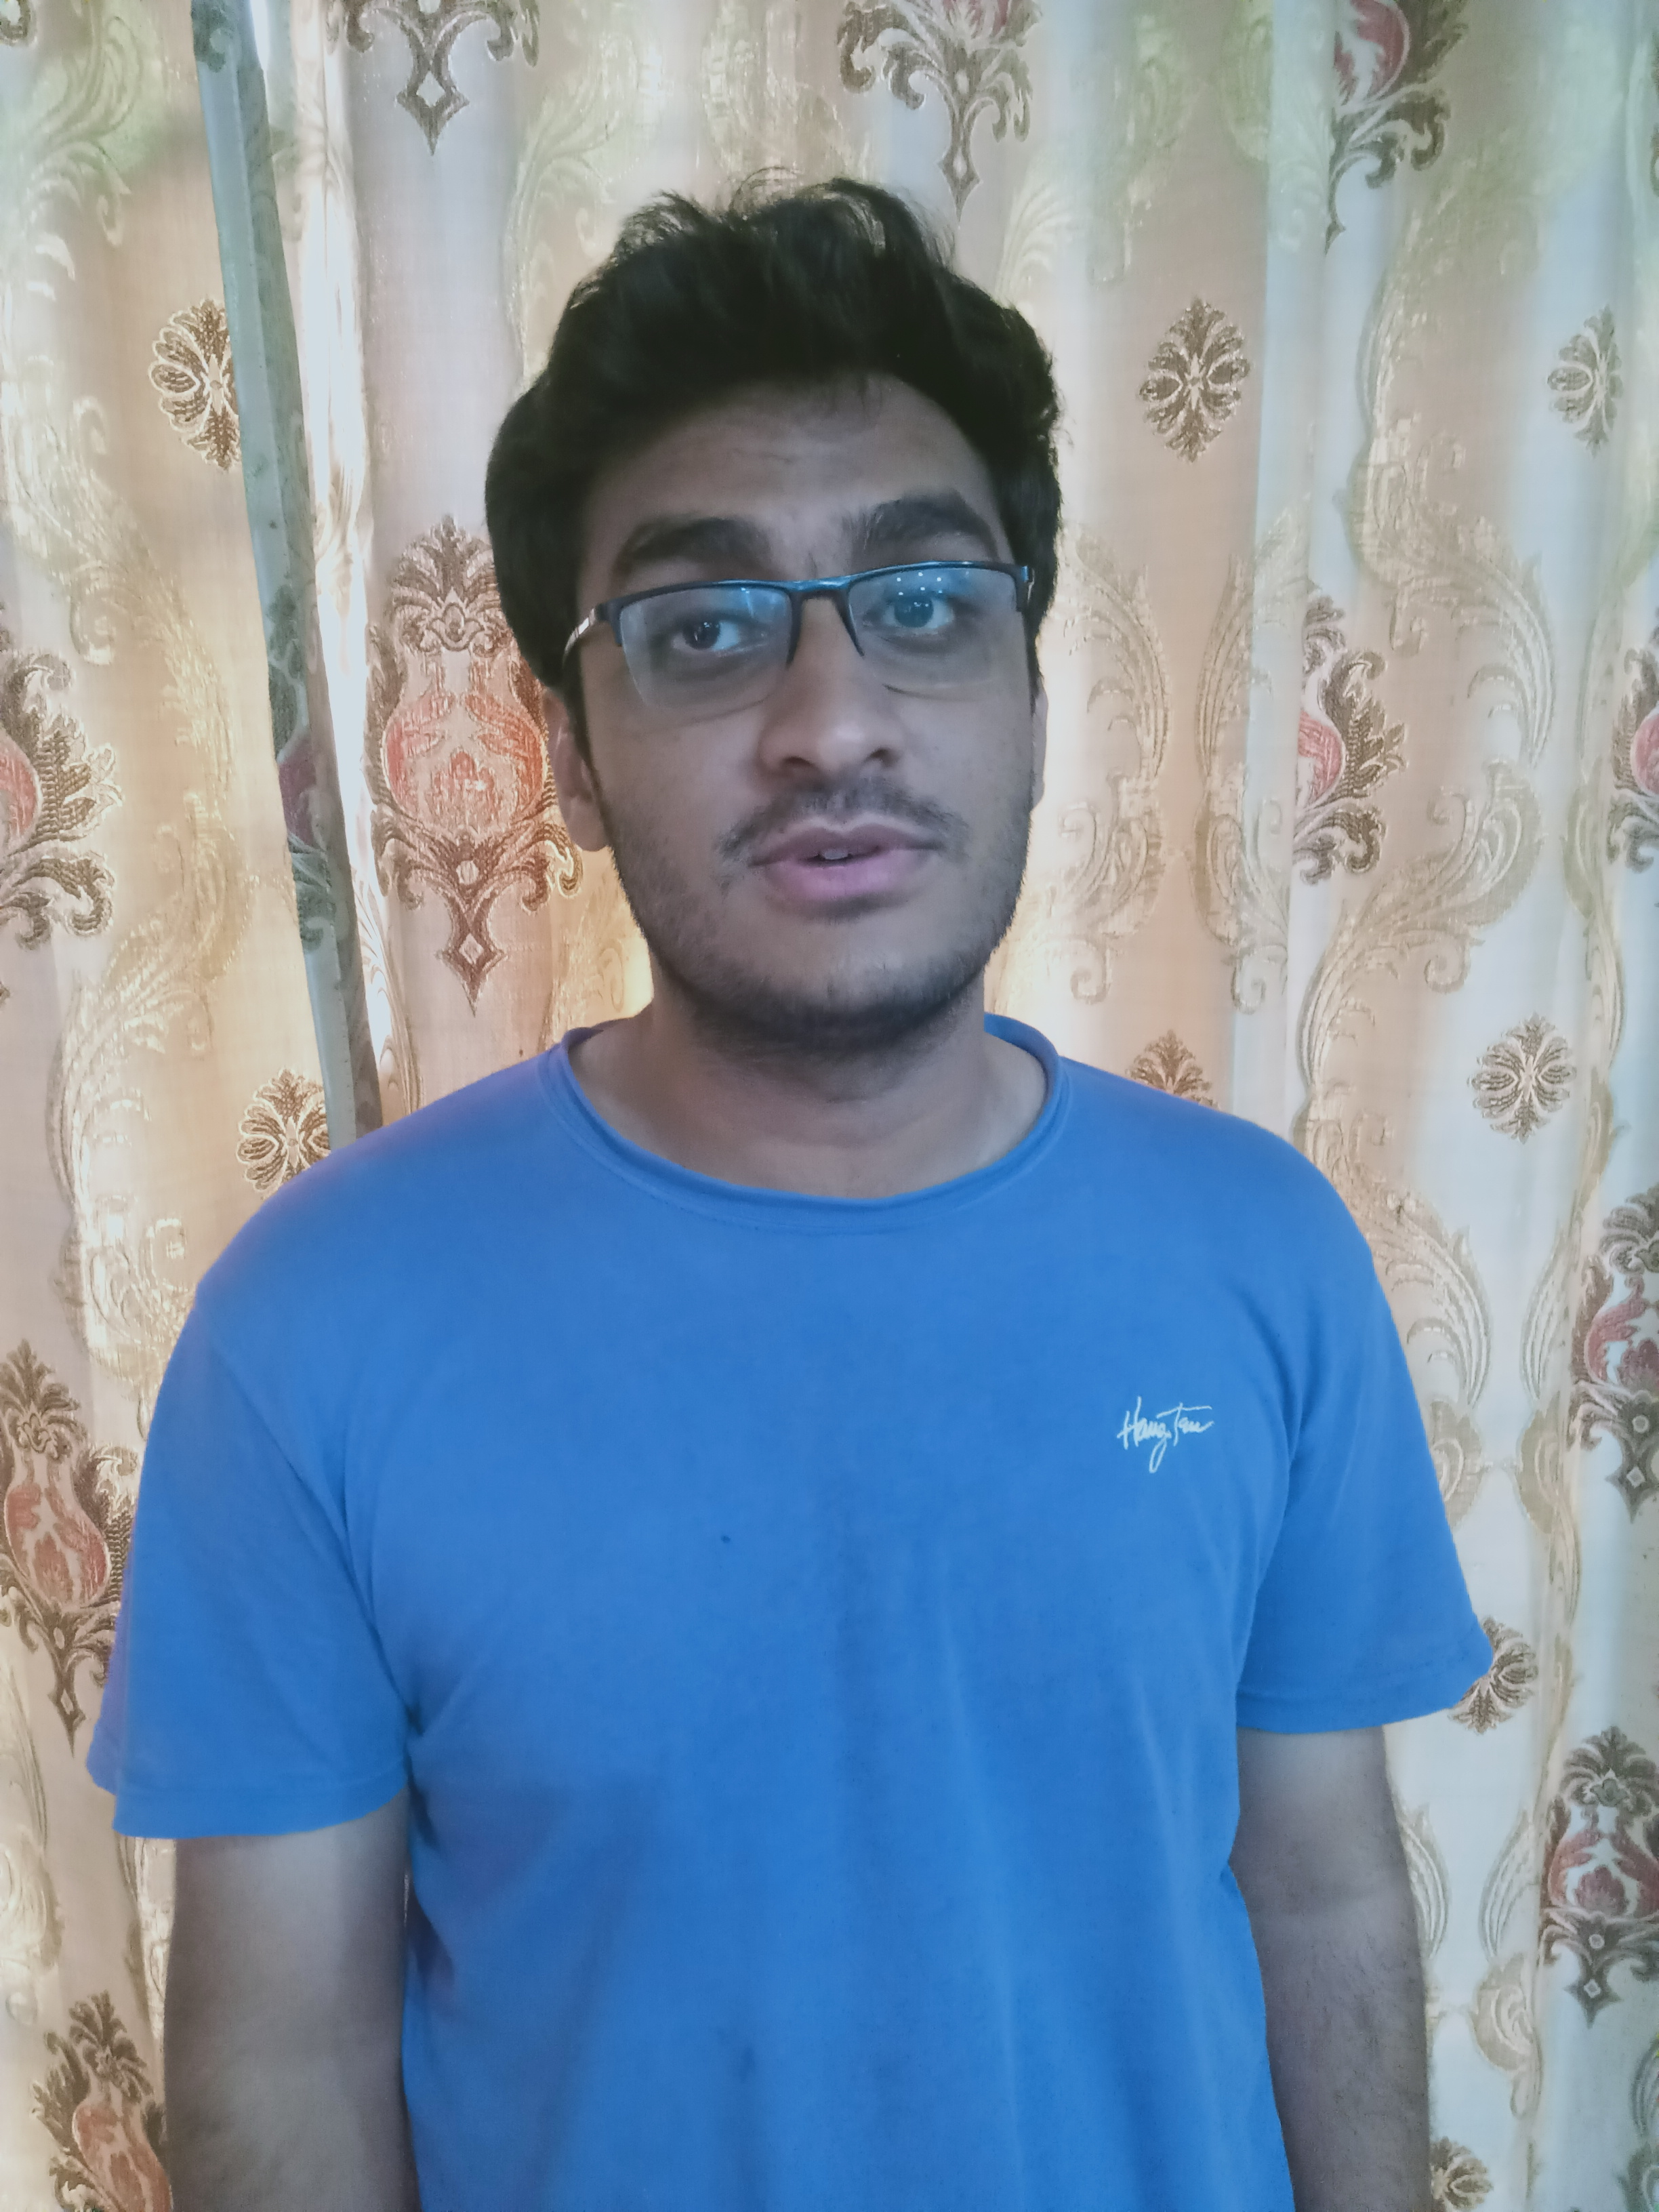NoMask: (586, 469, 1019, 1015)
